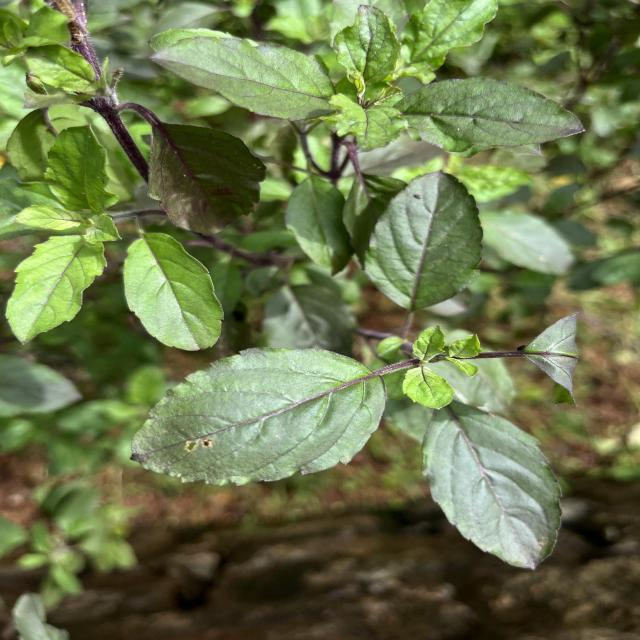Ocimum tenuiflorum: (129, 344, 390, 488), (420, 400, 565, 574), (358, 168, 488, 311), (122, 230, 225, 352)
